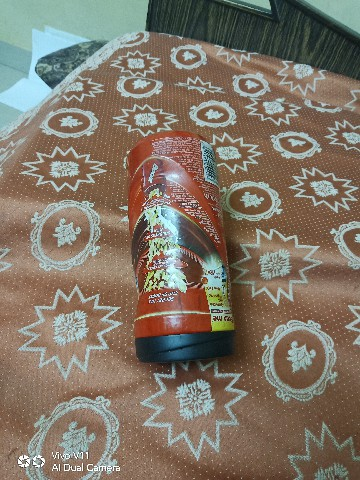boost big: (100, 117, 248, 381)
